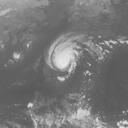cyclone: (44, 32, 112, 79)
